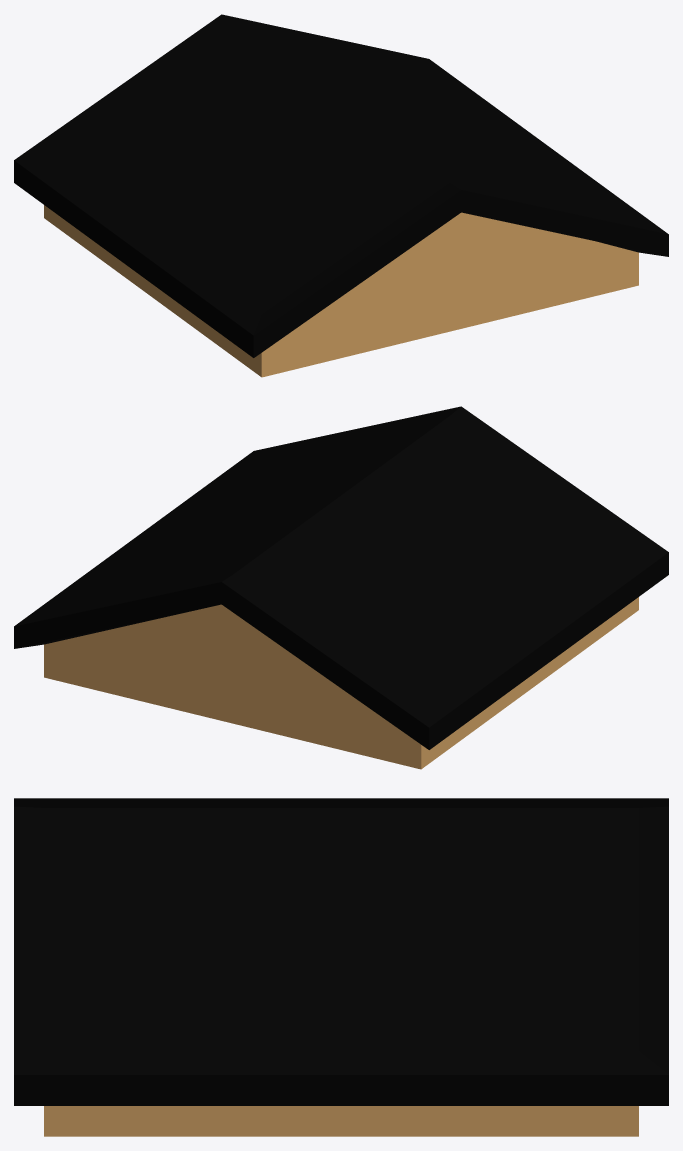
File: buildingTop4.fbx
The picture shows the model from 3 angles, top to bottom: view 1: azimuth 30°, elevation 25°; view 2: azimuth 150°, elevation 25°; view 3: azimuth 270°, elevation 25°; orthographic projection. The views are drawn at different scales.
Visible parts, largest first — view 1: roof2.001; view 2: roof2.001; view 3: roof2.001.
Boxes of the visible parts, box(x1,y1,x2,y2) form: roof2.001: box(14, 14, 668, 377); roof2.001: box(14, 406, 668, 769); roof2.001: box(14, 798, 668, 1136).
Size of the model in its own units: 110 by 37.95 by 110.
